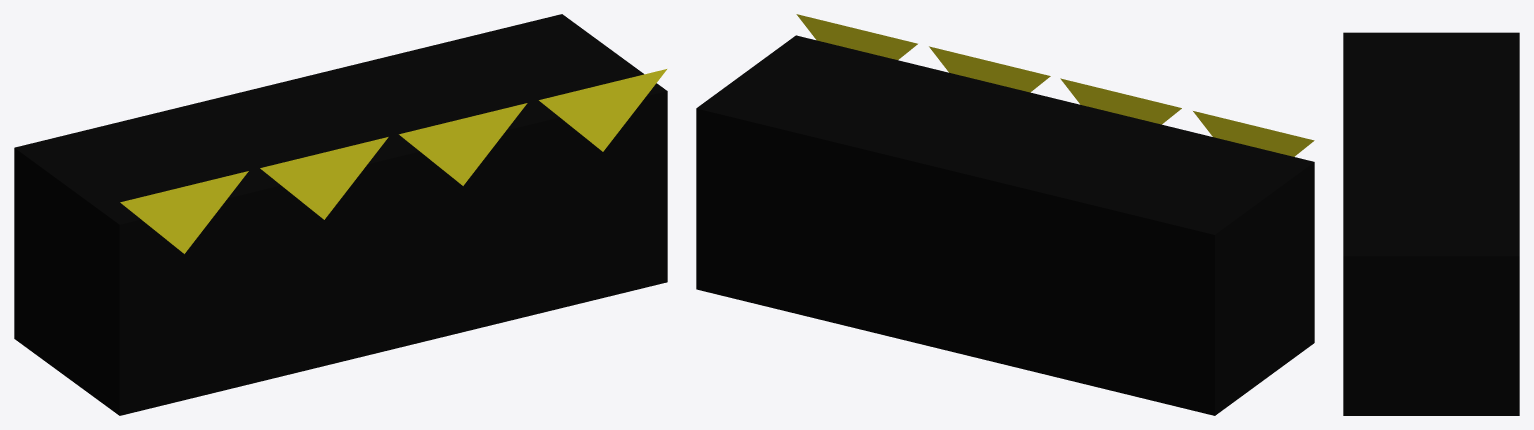
File: upper.glb
3 renders of one model, left to right at view 1: azimuth 30°, elevation 25°; view 2: azimuth 150°, elevation 25°; view 3: azimuth 270°, elevation 25°, orthographic. The views are drawn at different scales.
Parts seen in each view (by area): view 1: Upper, Plane.001; view 2: Upper, Plane.001; view 3: Upper.
Boxes of the visible parts, left/top/right/bottom form: Upper: left=14, top=14, right=667, bottom=415; Plane.001: left=120, top=69, right=666, bottom=253; Upper: left=696, top=35, right=1314, bottom=415; Plane.001: left=796, top=14, right=1314, bottom=156; Upper: left=1343, top=32, right=1519, bottom=415.
Size of the model in its own units: 3 by 1.12 by 1.
